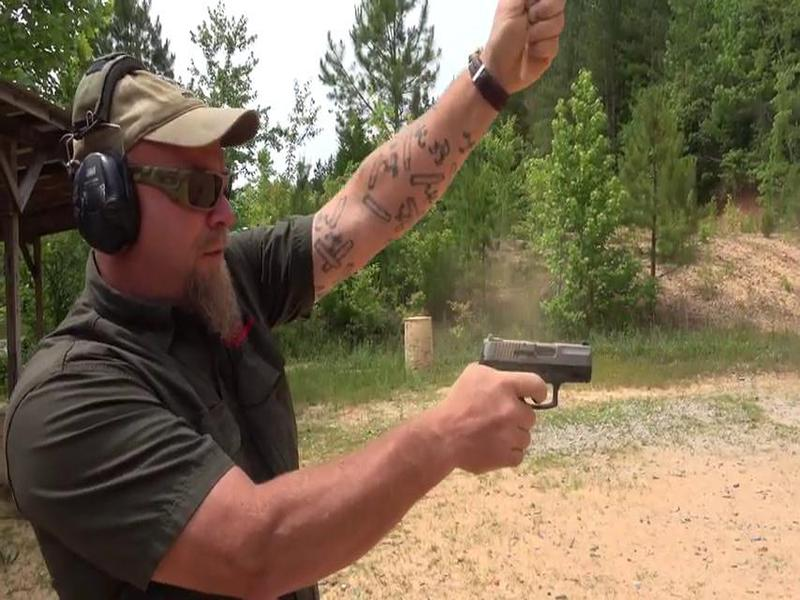Pistola: (476, 328, 602, 412)
